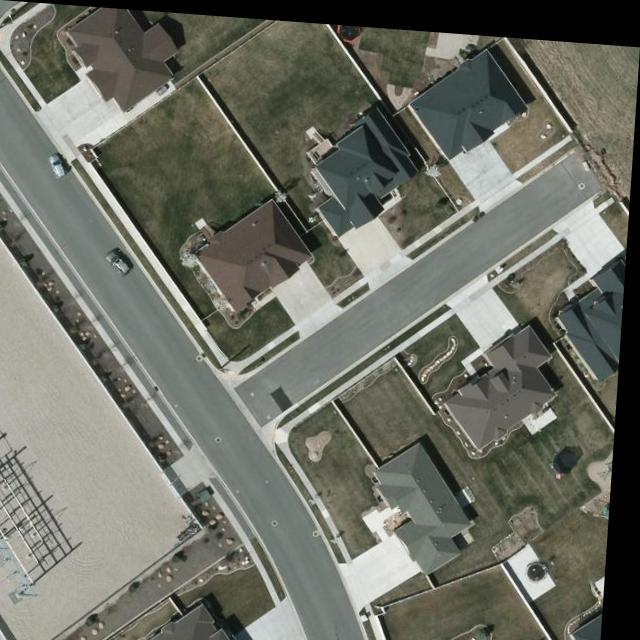vehicle: (107, 246, 137, 277), (45, 150, 74, 180)
